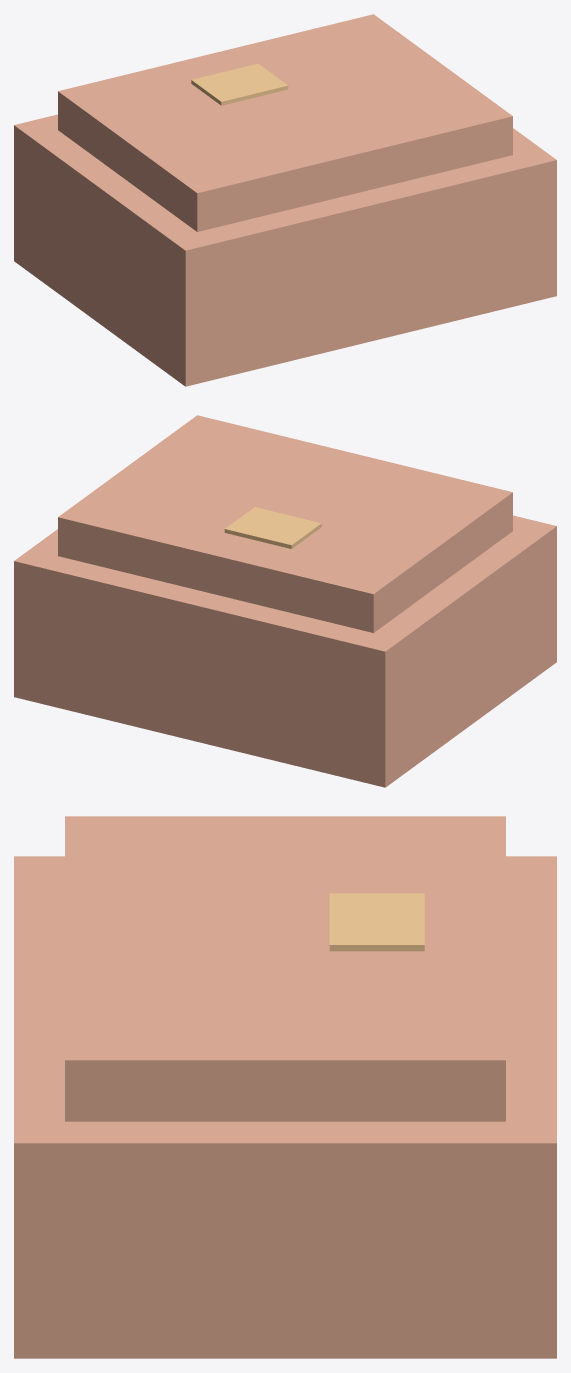
The model's file is product_roast_chip.glb.
3 renders of one model, top to bottom at view 1: azimuth 30°, elevation 25°; view 2: azimuth 150°, elevation 25°; view 3: azimuth 270°, elevation 25°, orthographic. The views are drawn at different scales.
Parts seen in each view (by area): view 1: ProductArt_body, ProductArt_accent; view 2: ProductArt_body, ProductArt_accent; view 3: ProductArt_body, ProductArt_accent.
Part boxes in pixels (x1=…): ProductArt_body: x1=14, y1=14, x2=556, y2=386; ProductArt_accent: x1=191, y1=63, x2=288, y2=105; ProductArt_body: x1=14, y1=415, x2=556, y2=787; ProductArt_accent: x1=224, y1=507, x2=321, y2=548; ProductArt_body: x1=14, y1=816, x2=556, y2=1358; ProductArt_accent: x1=329, y1=893, x2=424, y2=951.
Bounding box in the file's own units: 0.24 × 0.1104 × 0.192.
